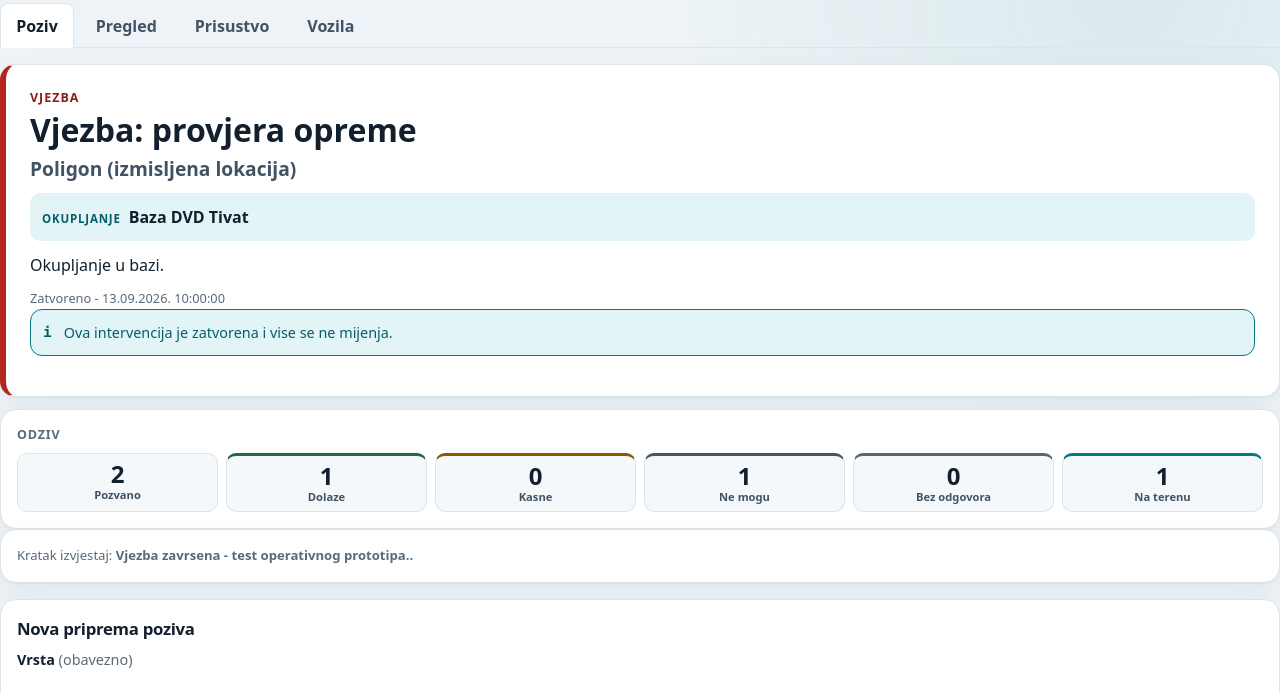
Test: every recorded time and duration reaches the screen › the commander console › shows how long each vehicle was away, and who recorded both ends
The image size is (1280, 692).
Click the tab "Pregled".
click(126, 25)  # box [80,3,173,47]
(page scrolled)
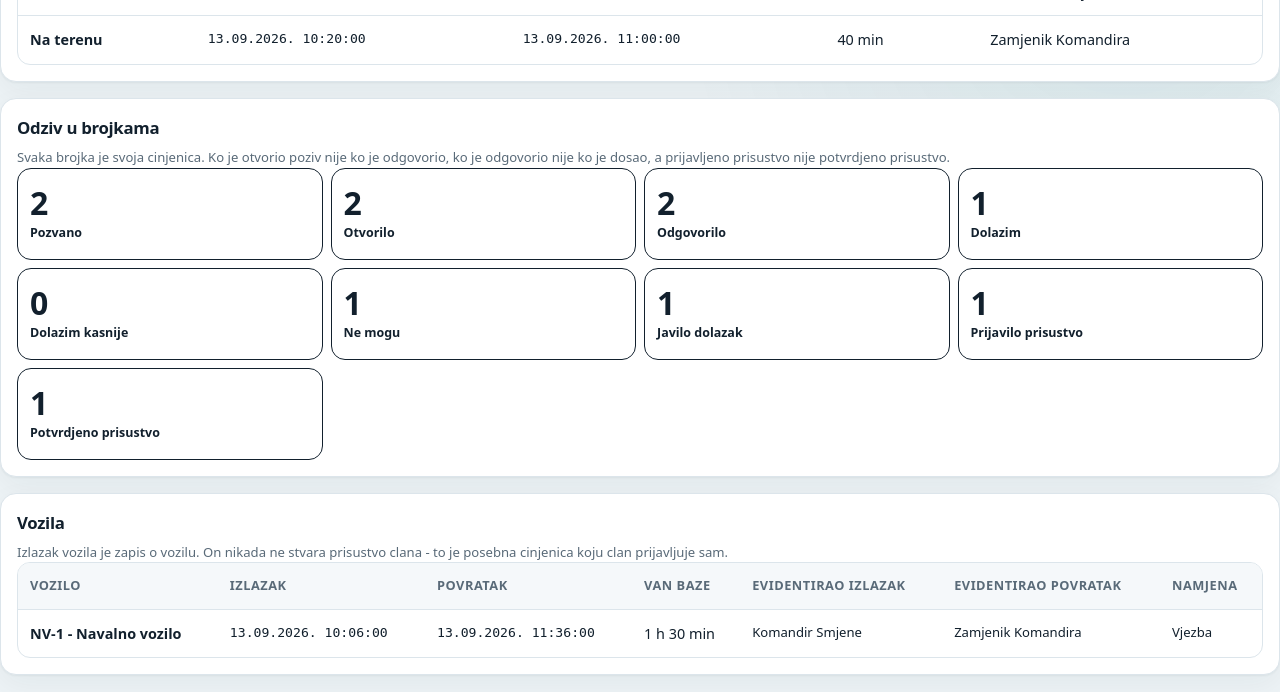
Expected: the row that starts with "NV-1" is shown, [30,624,64,643]
Expected: the row that starts with "NV-1" shows "10:06:00", [230,625,388,640]
Expected: the row that starts with "NV-1" shows "11:36:00", [437,625,595,640]
